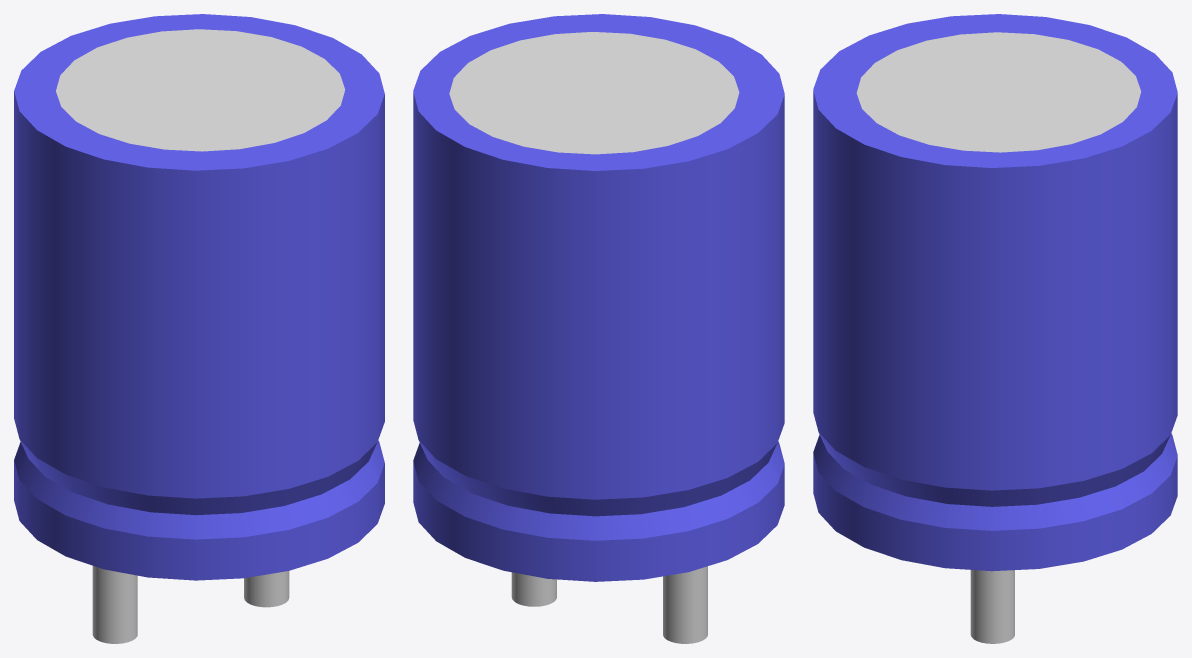
File: capacitor.fbx
3 renders of one model, left to right at view 1: azimuth 30°, elevation 25°; view 2: azimuth 150°, elevation 25°; view 3: azimuth 270°, elevation 25°, orthographic.
Parts seen in each view (by area): view 1: Layer0_001; view 2: Layer0_001; view 3: Layer0_001.
Part boxes in pixels (left/top/right/bottom): Layer0_001: left=14, top=14, right=384, bottom=643; Layer0_001: left=413, top=14, right=784, bottom=643; Layer0_001: left=813, top=14, right=1177, bottom=643.
Bounding box in the file's own units: 8.2 × 12.7 × 8.2.
